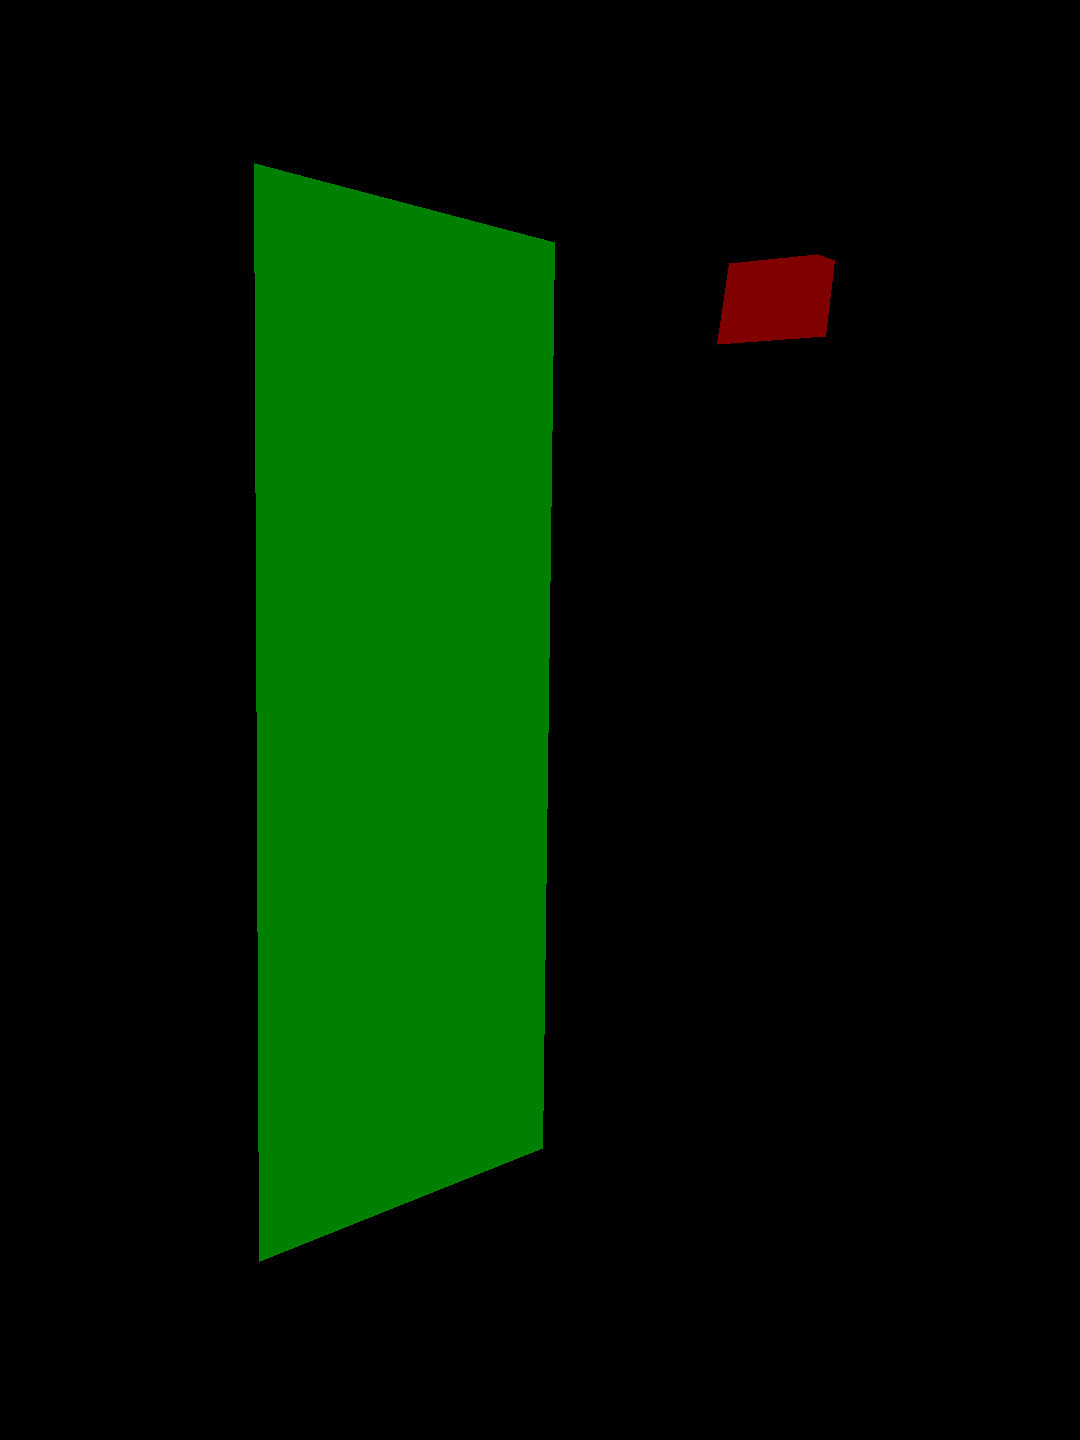door: (254, 163, 554, 1261)
sign: (346, 279, 444, 410), (717, 254, 834, 344)
